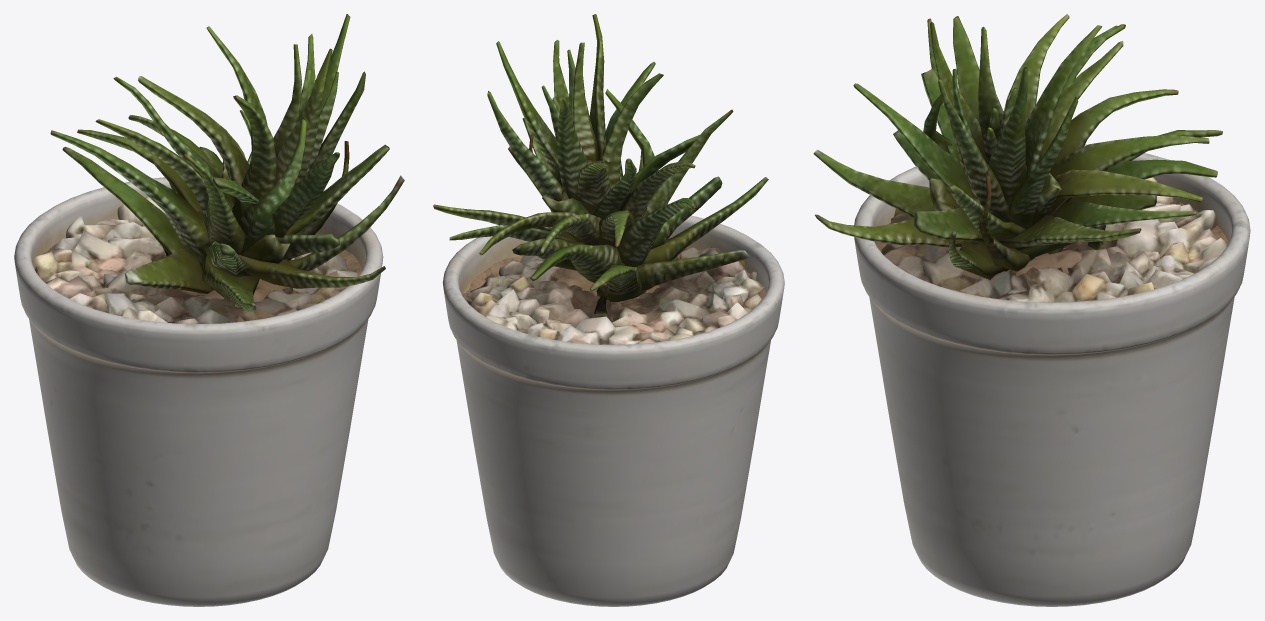
File: plant_succulent.glb
3 views of the same model, side by side, from view 1: azimuth 30°, elevation 25°; view 2: azimuth 150°, elevation 25°; view 3: azimuth 270°, elevation 25° (orthographic). The views are drawn at different scales.
Visible parts, largest first — view 1: potted_plant_04_pot, potted_plant_04_plant, potted_plant_04_ground, potted_plant_04_dirt; view 2: potted_plant_04_pot, potted_plant_04_plant, potted_plant_04_ground, potted_plant_04_dirt; view 3: potted_plant_04_pot, potted_plant_04_plant, potted_plant_04_ground, potted_plant_04_dirt.
Part boxes in pixels (x1,y1,x2,y2): potted_plant_04_pot: (14, 177, 383, 606); potted_plant_04_plant: (50, 14, 404, 311); potted_plant_04_ground: (34, 196, 357, 323); potted_plant_04_dirt: (34, 238, 362, 307); potted_plant_04_pot: (442, 215, 784, 606); potted_plant_04_plant: (433, 14, 768, 314); potted_plant_04_ground: (463, 247, 765, 344); potted_plant_04_dirt: (462, 247, 765, 306); potted_plant_04_pot: (854, 144, 1250, 606); potted_plant_04_plant: (813, 14, 1222, 279); potted_plant_04_ground: (881, 177, 1227, 302); potted_plant_04_dirt: (875, 200, 1228, 297).
Size of the model in its own units: 0.1679 by 0.2675 by 0.1848.
1 material, 1 textured.
